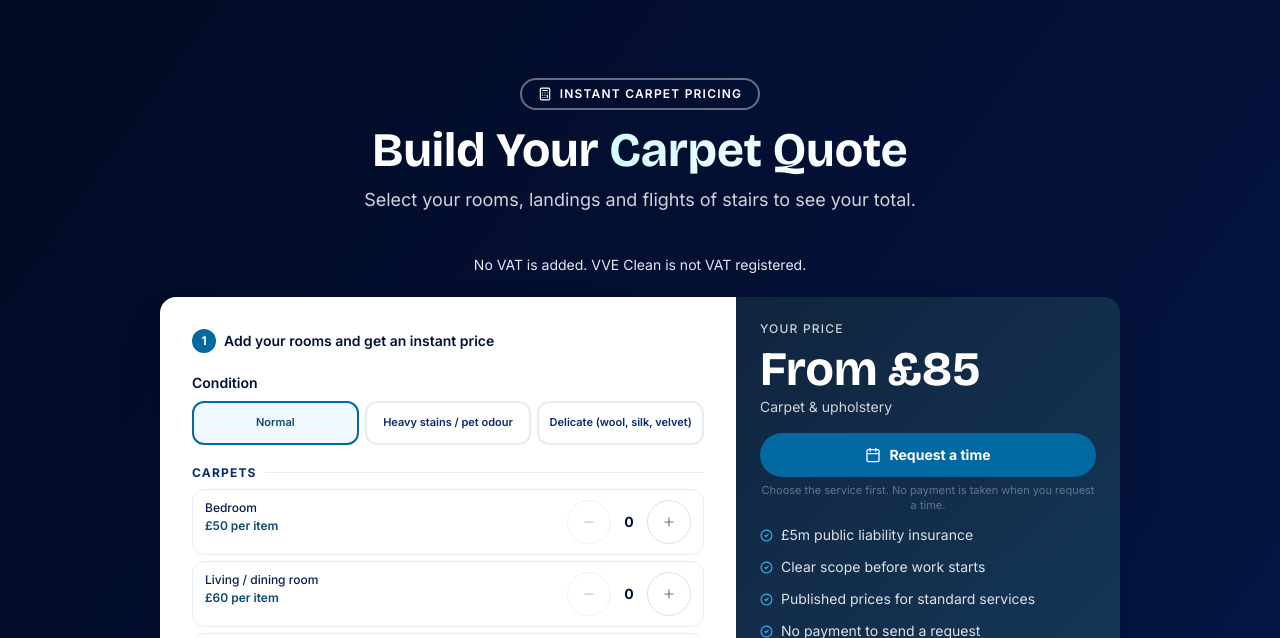
Carpet page — optional upholstery disclosure › clears upholstery quantities when the customer goes back to No
The width and height of the screenshot is (1280, 638).
Click the button named "Increase Bedroom quantity".
click(669, 522)  # box x1=647 y1=500 x2=691 y2=544
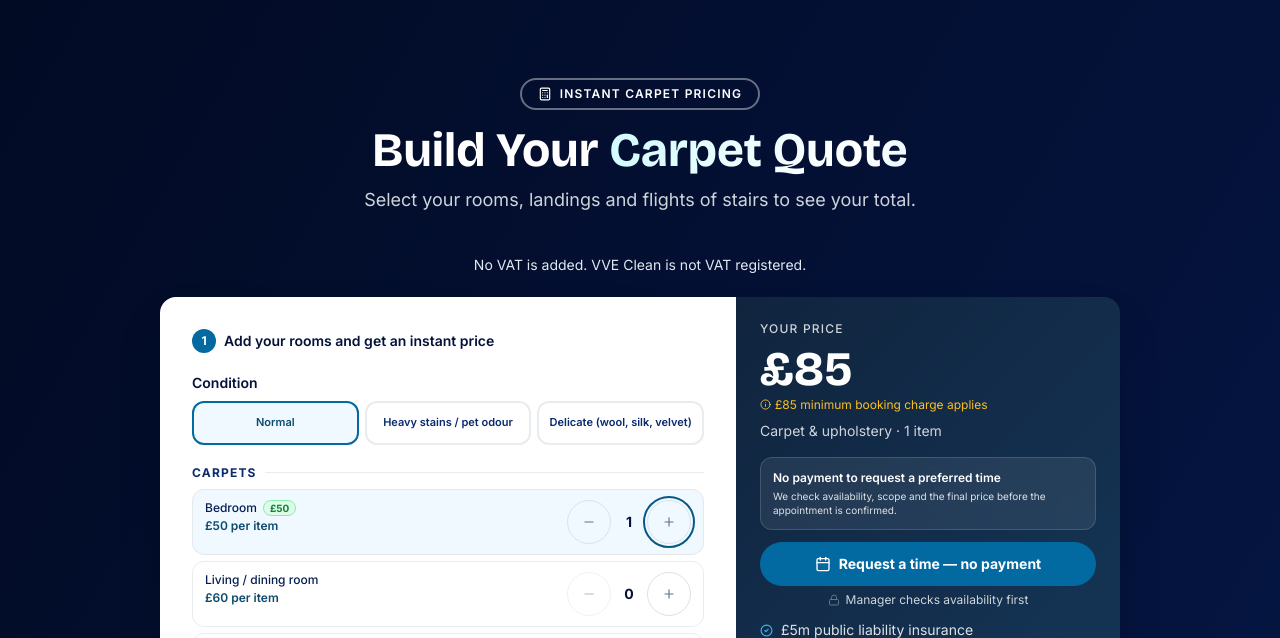
Click the button named "Increase Living / dining room quantity".
click(669, 594)  # box x1=647 y1=572 x2=691 y2=616
(page scrolled)
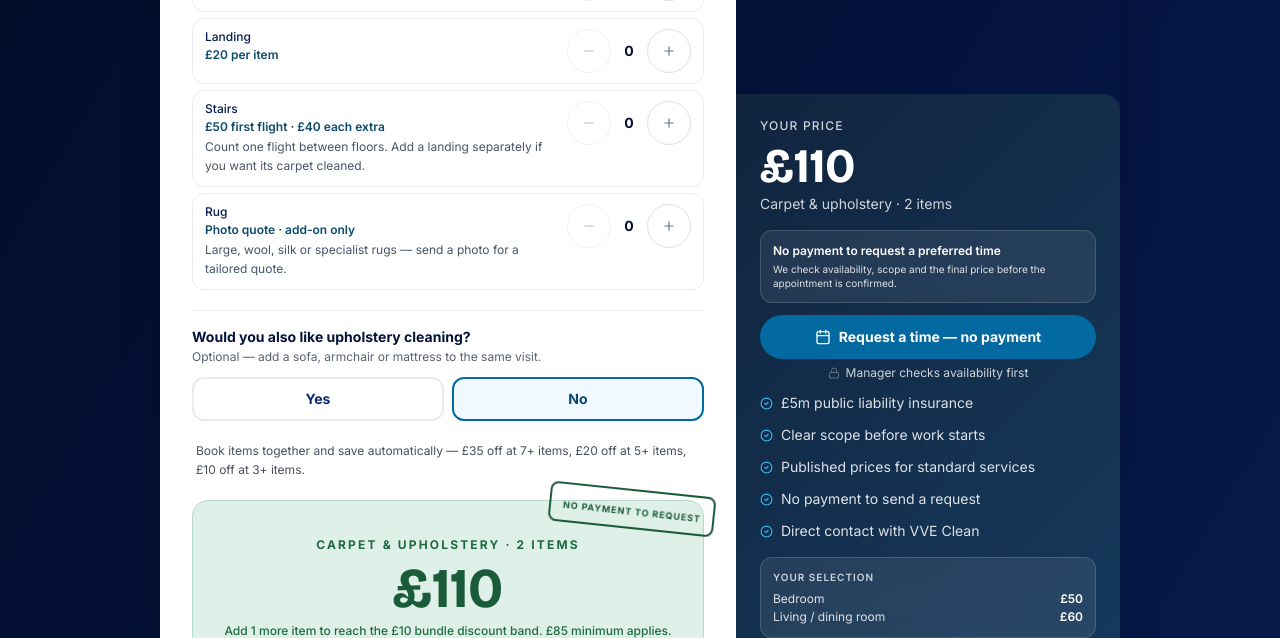
Click the button "Yes".
click(318, 399)  # box x1=192 y1=377 x2=444 y2=421
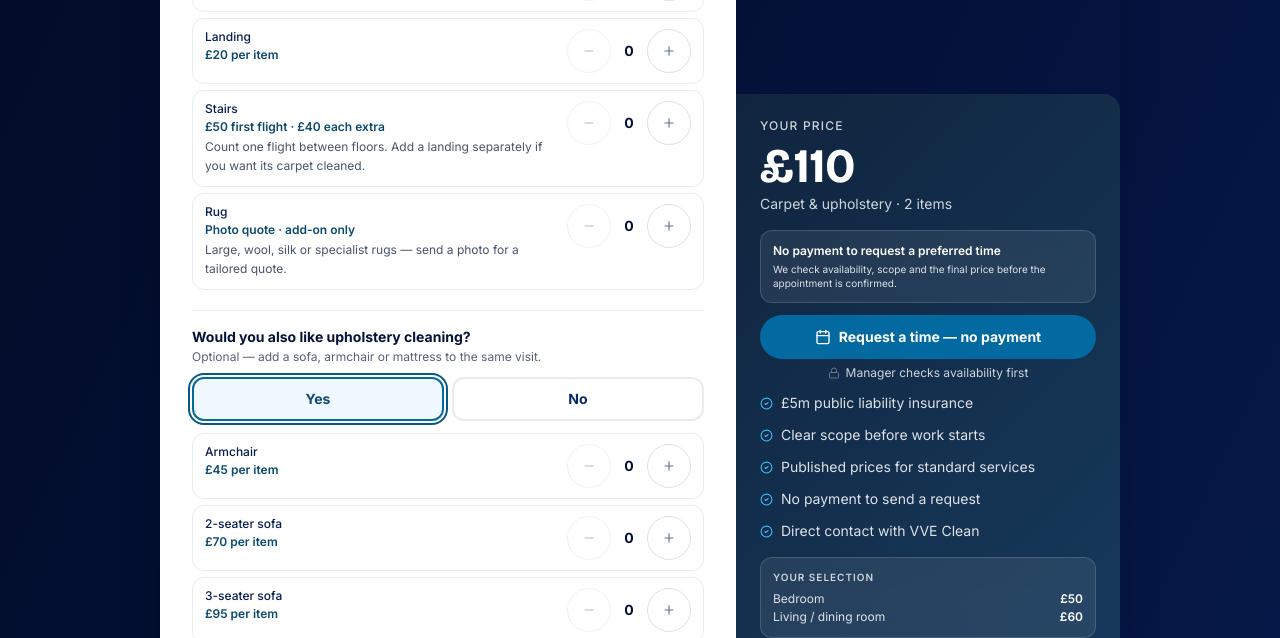
Click the button named "Increase 3-seater sofa quantity".
click(669, 610)  # box x1=647 y1=588 x2=691 y2=632
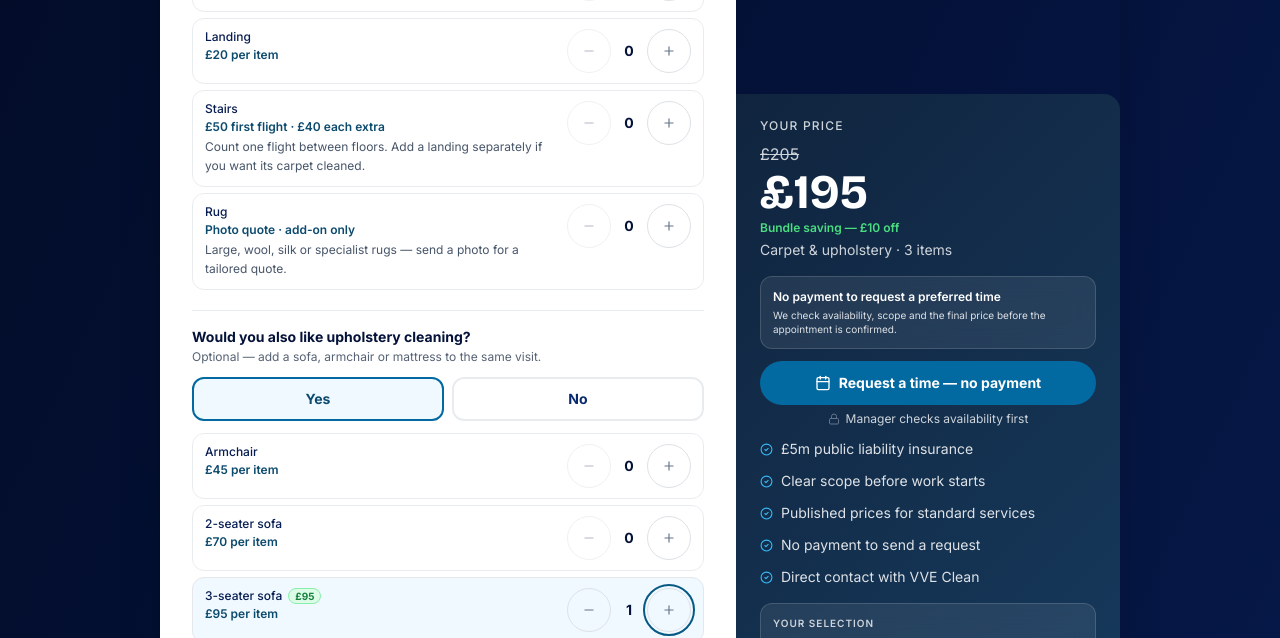
Click the button "No".
click(578, 399)  # box x1=452 y1=377 x2=704 y2=421
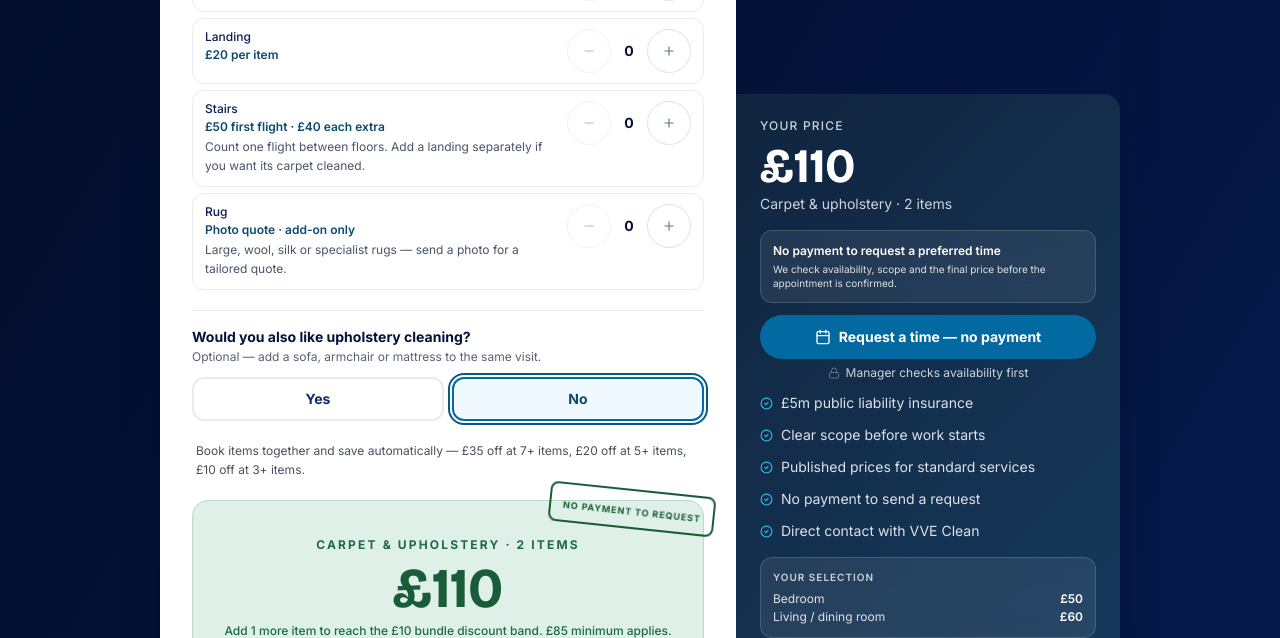
Expected: the text "£110" below "Would you also like upholstery cleaning?" is shown, x1=393 y1=555 x2=503 y2=622
Expected: the text "£195" is gone
